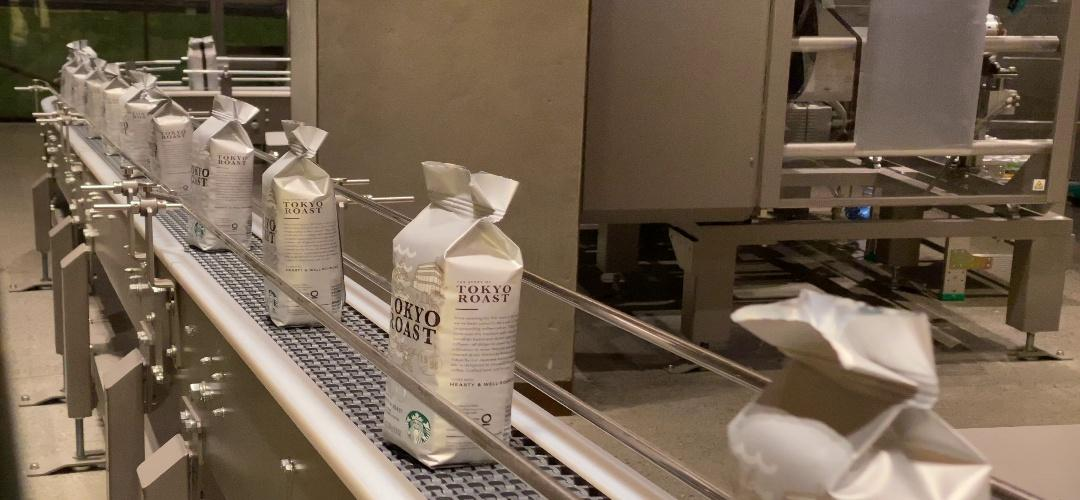conveyor: (389, 231, 517, 376), (259, 171, 341, 257), (191, 134, 255, 213)
